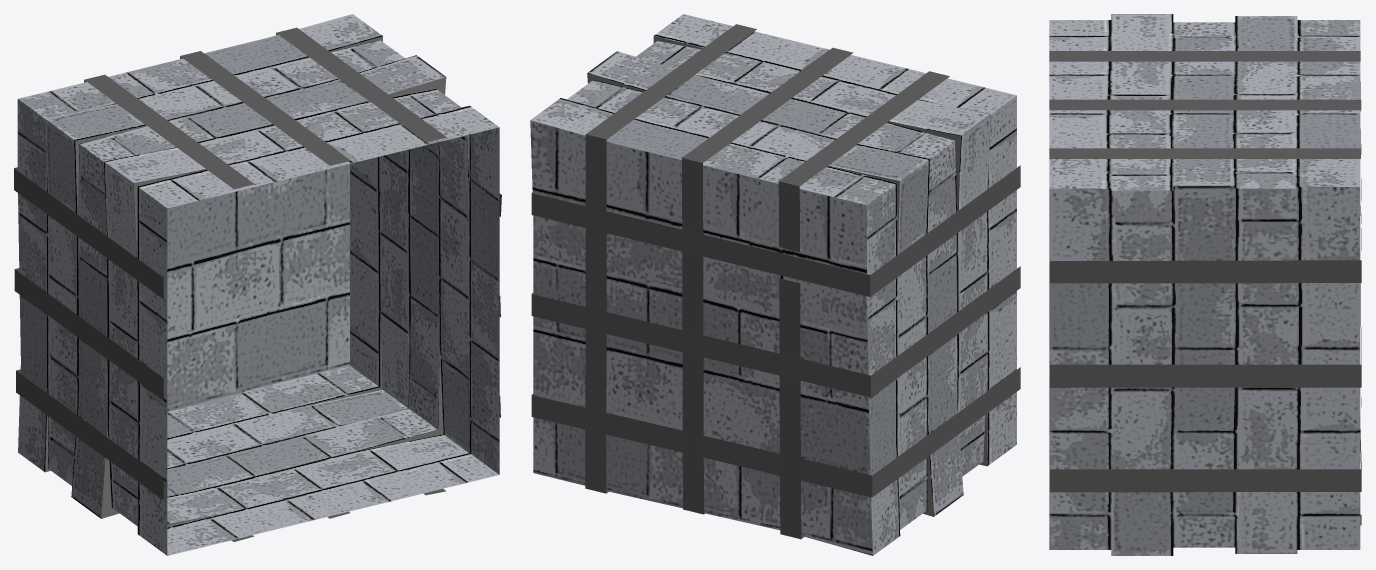
The model's file is StoneBunch.fbx.
3 views of the same model, side by side, from view 1: azimuth 30°, elevation 25°; view 2: azimuth 150°, elevation 25°; view 3: azimuth 270°, elevation 25° (orthographic). The views are drawn at different scales.
Visible parts, largest first — view 1: StoneBunch; view 2: StoneBunch; view 3: StoneBunch.
Boxes of the visible parts, <box> form: StoneBunch: <box>14,14,501,555</box>; StoneBunch: <box>530,14,1020,555</box>; StoneBunch: <box>1049,14,1361,555</box>.
Bounding box in the file's own units: 184 × 182 × 139.
